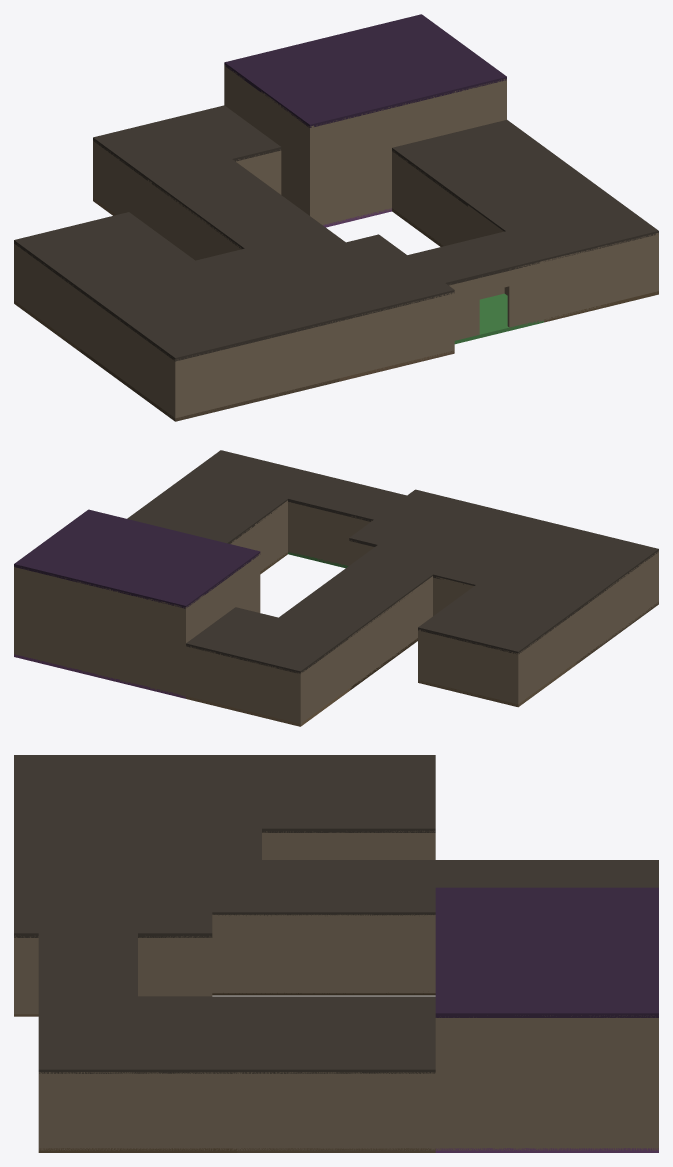
File: level.glb
The picture shows the model from 3 angles, top to bottom: view 1: azimuth 30°, elevation 25°; view 2: azimuth 150°, elevation 25°; view 3: azimuth 270°, elevation 25°; orthographic projection. The views are drawn at different scales.
Parts seen in each view (by area): view 1: R6_Hall_CL_054, R1_Start_CL_002, R6_Hall_SL_055, R1_Start_S_003, R4_Corr_CL_033, R8_Spark_CL_074, R3_Trap_CL_021, R7_Safe_CL_064, R2_Ward_CL_013, R5_Lib_CL_044, R3_Trap_S_022, R8_Spark_S_075 (+17 smaller); view 2: R6_Hall_N_058, R6_Hall_CL_054, R1_Start_CL_002, R4_Corr_CL_033, R3_Trap_CL_021, R8_Spark_CL_074, R2_Ward_CL_013, R5_Lib_CL_044, R5_Lib_N_048, R2_Ward_N_017, R1_Start_W_007, R4_Corr_W_040 (+13 smaller); view 3: R6_Hall_CL_054, R6_Hall_E_062, R1_Start_CL_002, R4_Corr_E_041, R8_Spark_CL_074, R7_Safe_CL_064, R8_Spark_E_082, R7_Safe_E_072, R3_Trap_CL_021, R4_Corr_CL_033, R2_Ward_CL_013, R9_Exit_CL_084 (+10 smaller).
Part boxes in pixels (x1,y1,x2,y2): R6_Hall_CL_054: (224, 14, 506, 127); R1_Start_CL_002: (80, 248, 339, 361); R6_Hall_SL_055: (308, 100, 426, 225); R1_Start_S_003: (173, 321, 339, 418); R4_Corr_CL_033: (150, 159, 345, 262); R8_Spark_CL_074: (468, 175, 658, 261); R3_Trap_CL_021: (264, 234, 454, 321); R7_Safe_CL_064: (392, 120, 582, 206); R2_Ward_CL_013: (14, 212, 194, 291); R5_Lib_CL_044: (93, 105, 281, 181); R3_Trap_S_022: (339, 292, 454, 378); R8_Spark_S_075: (544, 234, 658, 320); R6_Hall_N_058: (14, 566, 187, 697); R6_Hall_CL_054: (14, 509, 260, 608); R1_Start_CL_002: (433, 514, 658, 611); R4_Corr_CL_033: (279, 545, 448, 637); R3_Trap_CL_021: (349, 489, 514, 562); R8_Spark_CL_074: (155, 450, 320, 525); R2_Ward_CL_013: (418, 585, 576, 654); R5_Lib_CL_044: (186, 607, 350, 673); R5_Lib_N_048: (186, 645, 302, 724); R2_Ward_N_017: (418, 630, 519, 705); R1_Start_W_007: (576, 552, 658, 662); R4_Corr_W_040: (350, 576, 432, 688); R6_Hall_CL_054: (435, 887, 658, 1017); R6_Hall_E_062: (435, 1015, 658, 1150); R1_Start_CL_002: (14, 755, 261, 859); R4_Corr_E_041: (212, 914, 435, 993); R8_Spark_CL_074: (38, 996, 237, 1073); R7_Safe_CL_064: (237, 996, 435, 1073); R8_Spark_E_082: (38, 1072, 237, 1150); R7_Safe_E_072: (237, 1072, 435, 1150); R3_Trap_CL_021: (14, 860, 212, 937); R4_Corr_CL_033: (212, 860, 509, 915); R2_Ward_CL_013: (262, 755, 435, 832); R9_Exit_CL_084: (38, 933, 137, 996).
Bounding box in the file's own units: 30 × 6.2 × 26.
